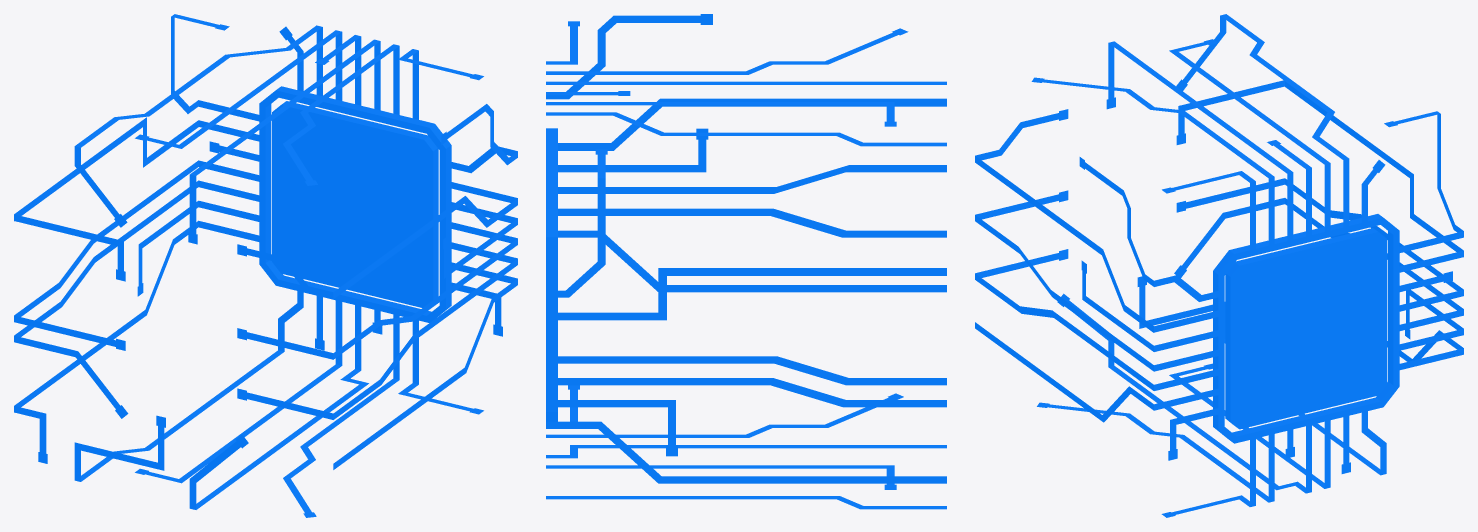
The model's file is totem_technologia.glb.
The picture shows the model from 3 angles, left to right: view 1: azimuth 30°, elevation 25°; view 2: azimuth 150°, elevation 25°; view 3: azimuth 270°, elevation 25°; orthographic projection. The views are drawn at different scales.
Visible parts, largest first — view 1: totem_technologia_1; view 2: totem_technologia_1; view 3: totem_technologia_1.
Part boxes in pixels (x1,y1,x2,y2): totem_technologia_1: (14, 14, 517, 517); totem_technologia_1: (546, 14, 946, 509); totem_technologia_1: (975, 14, 1463, 517).
Size of the model in its own units: 1.37 by 1 by 1.37.
